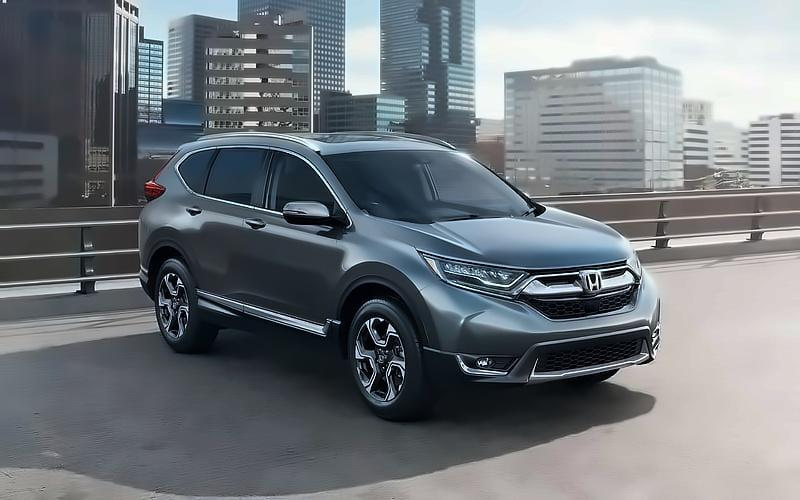Car hood: (375, 207, 645, 271)
Driver-s door - -F-R-: (244, 137, 334, 327)
Fender - -F-R-: (334, 202, 443, 329)
Fender - -R-R-: (144, 190, 181, 271)
Front bumper: (412, 298, 673, 392)
Headlight - -L-: (619, 245, 647, 280)
Headlight - -R-: (411, 245, 531, 303)
Passenger-s door - -R-R-: (180, 135, 244, 307)
Rear bumper: (135, 231, 157, 299)
Rear light - -R-: (137, 145, 181, 208)
Side bumper - -R-: (183, 283, 342, 342)
Side mirror - -R-: (273, 198, 335, 236)
